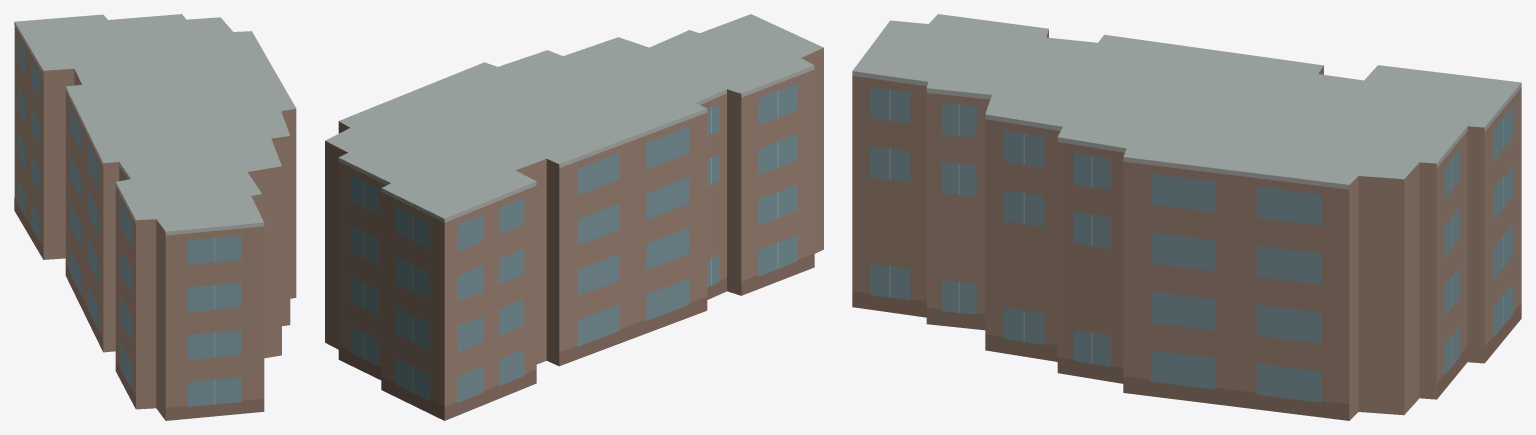
File: survey-upis-32629446.glb
The picture shows the model from 3 angles, left to right: view 1: azimuth 30°, elevation 25°; view 2: azimuth 150°, elevation 25°; view 3: azimuth 270°, elevation 25°; orthographic projection. The views are drawn at different scales.
Visible parts, largest first — view 1: survey-upis-32629446.tmp; view 2: survey-upis-32629446.tmp; view 3: survey-upis-32629446.tmp.
Part boxes in pixels (x1,y1,x2,y2): survey-upis-32629446.tmp: (14, 14, 296, 420); survey-upis-32629446.tmp: (325, 14, 823, 420); survey-upis-32629446.tmp: (852, 14, 1521, 420).
Bounding box in the file's own units: 18.96 × 12.2 × 31.37.
